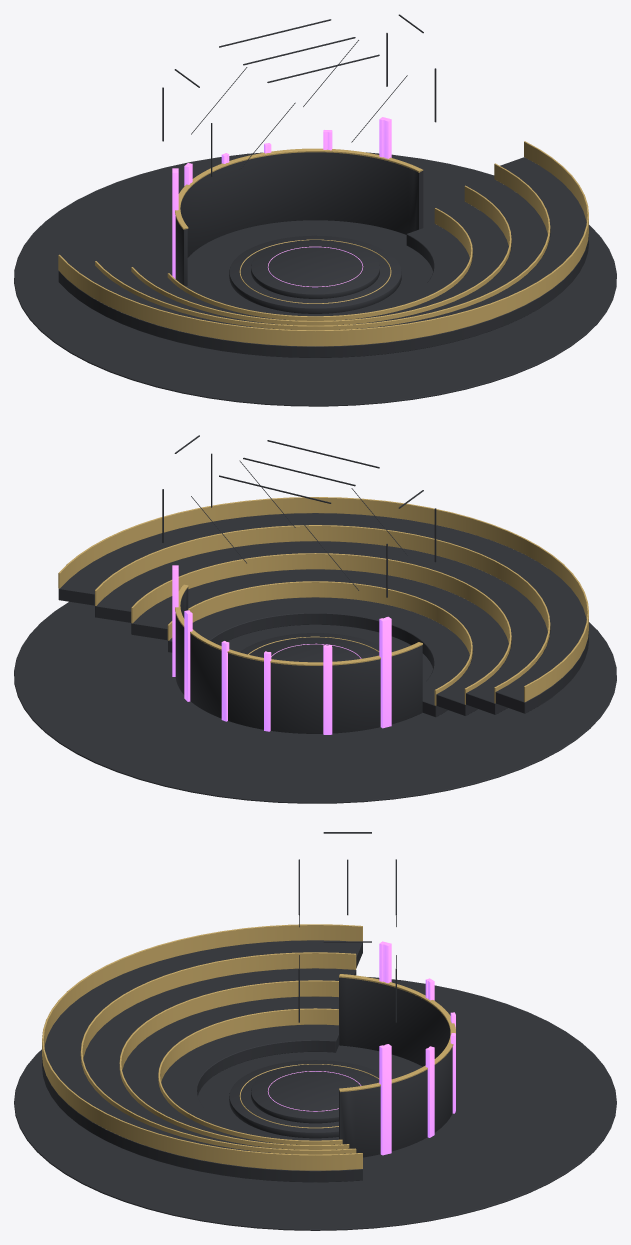
The model's file is BF_Stage.glb.
3 views of the same model, one above another, from view 1: azimuth 30°, elevation 25°; view 2: azimuth 150°, elevation 25°; view 3: azimuth 270°, elevation 25° (orthographic).
Visible parts, largest first — view 1: STAGE_Floor, STAGE_BackWall, STAGE_Seating_Tier4, STAGE_SeatBack_Tier4, STAGE_Platform_Top, STAGE_Seating_Tier3, STAGE_Platform_Base, STAGE_Seating_Tier2, STAGE_SeatBack_Tier3, STAGE_Seating_Tier1, STAGE_SeatBack_Tier2, STAGE_SeatBack_Tier1 (+2 smaller); view 2: STAGE_Floor, STAGE_BackWall, STAGE_Seating_Tier4, STAGE_Seating_Tier3, STAGE_SeatBack_Tier4, STAGE_Seating_Tier1, STAGE_Seating_Tier2, STAGE_SeatBack_Tier3, STAGE_SeatBack_Tier2, STAGE_SeatBack_Tier1, STAGE_Platform_Top, STAGE_LightPillar_L3 (+7 smaller); view 3: STAGE_Floor, STAGE_BackWall, STAGE_Seating_Tier4, STAGE_SeatBack_Tier4, STAGE_Seating_Tier3, STAGE_Seating_Tier1, STAGE_SeatBack_Tier3, STAGE_Seating_Tier2, STAGE_SeatBack_Tier2, STAGE_Platform_Top, STAGE_SeatBack_Tier1, STAGE_Platform_Base (+3 smaller).
Boxes of the visible parts, box(x1,y1,x2,y2) form: STAGE_Floor: box(14, 152, 616, 406); STAGE_BackWall: box(175, 152, 423, 286); STAGE_Seating_Tier4: box(58, 157, 588, 357); STAGE_SeatBack_Tier4: box(58, 141, 588, 346); STAGE_Platform_Top: box(251, 240, 379, 298); STAGE_Seating_Tier3: box(111, 179, 547, 325); STAGE_Platform_Base: box(229, 235, 401, 313); STAGE_Seating_Tier2: box(148, 201, 508, 320); STAGE_SeatBack_Tier3: box(95, 163, 550, 330); STAGE_Seating_Tier1: box(185, 224, 469, 315); STAGE_SeatBack_Tier2: box(131, 185, 511, 325); STAGE_SeatBack_Tier1: box(167, 208, 472, 320); STAGE_Floor: box(14, 601, 616, 803); STAGE_BackWall: box(175, 587, 422, 733); STAGE_Seating_Tier4: box(58, 513, 588, 713); STAGE_Seating_Tier3: box(95, 541, 547, 714); STAGE_SeatBack_Tier4: box(58, 497, 588, 701); STAGE_Seating_Tier1: box(168, 597, 469, 717); STAGE_Seating_Tier2: box(131, 569, 508, 715); STAGE_SeatBack_Tier3: box(95, 525, 550, 703); STAGE_SeatBack_Tier2: box(131, 553, 511, 704); STAGE_SeatBack_Tier1: box(167, 581, 472, 705); STAGE_Platform_Top: box(254, 637, 376, 662); STAGE_LightPillar_L3: box(379, 616, 391, 728); STAGE_Floor: box(14, 977, 616, 1230); STAGE_BackWall: box(339, 977, 452, 1157); STAGE_Seating_Tier4: box(42, 940, 362, 1182); STAGE_SeatBack_Tier4: box(42, 924, 362, 1170); STAGE_Seating_Tier3: box(83, 968, 356, 1149); STAGE_Seating_Tier1: box(161, 1024, 338, 1140); STAGE_SeatBack_Tier3: box(80, 952, 356, 1154); STAGE_Seating_Tier2: box(122, 996, 340, 1144); STAGE_SeatBack_Tier2: box(119, 980, 349, 1149); STAGE_Platform_Top: box(251, 1064, 376, 1123); STAGE_SeatBack_Tier1: box(158, 1008, 342, 1145); STAGE_Platform_Base: box(229, 1060, 379, 1138).
Size of what is drawn, in the model's own units: 28 by 11.11 by 28.
